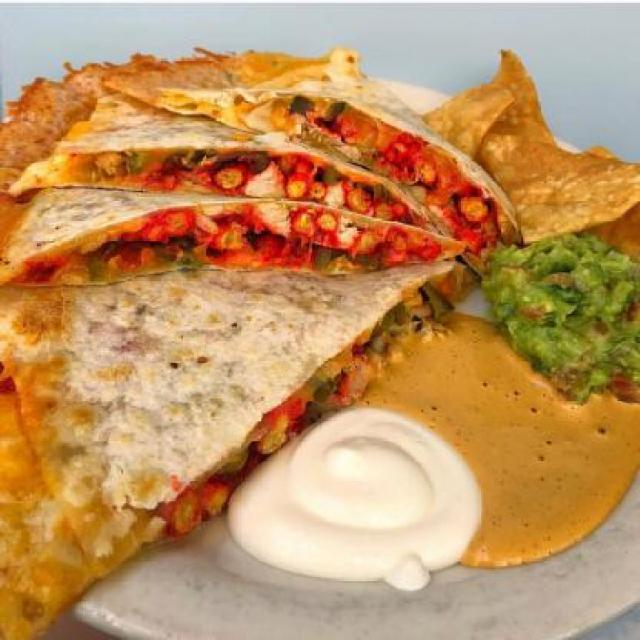chicken quesadilla: (1, 31, 499, 624)
guacamole: (483, 240, 640, 414)
nachos: (424, 39, 639, 246)
